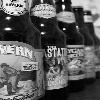beer: (30, 1, 73, 97)
